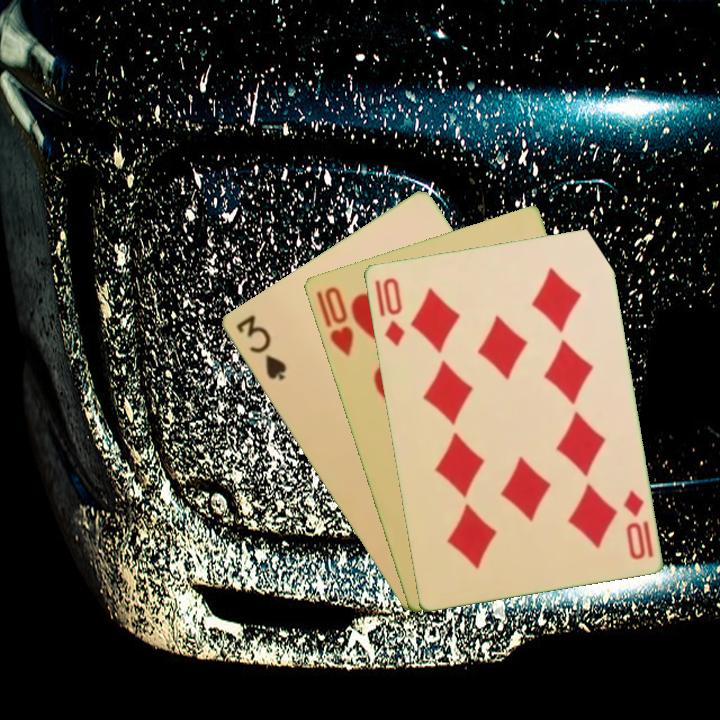10d: (370, 274, 408, 349), (619, 486, 656, 563)
10h: (312, 282, 356, 358)
3s: (231, 311, 289, 383)
